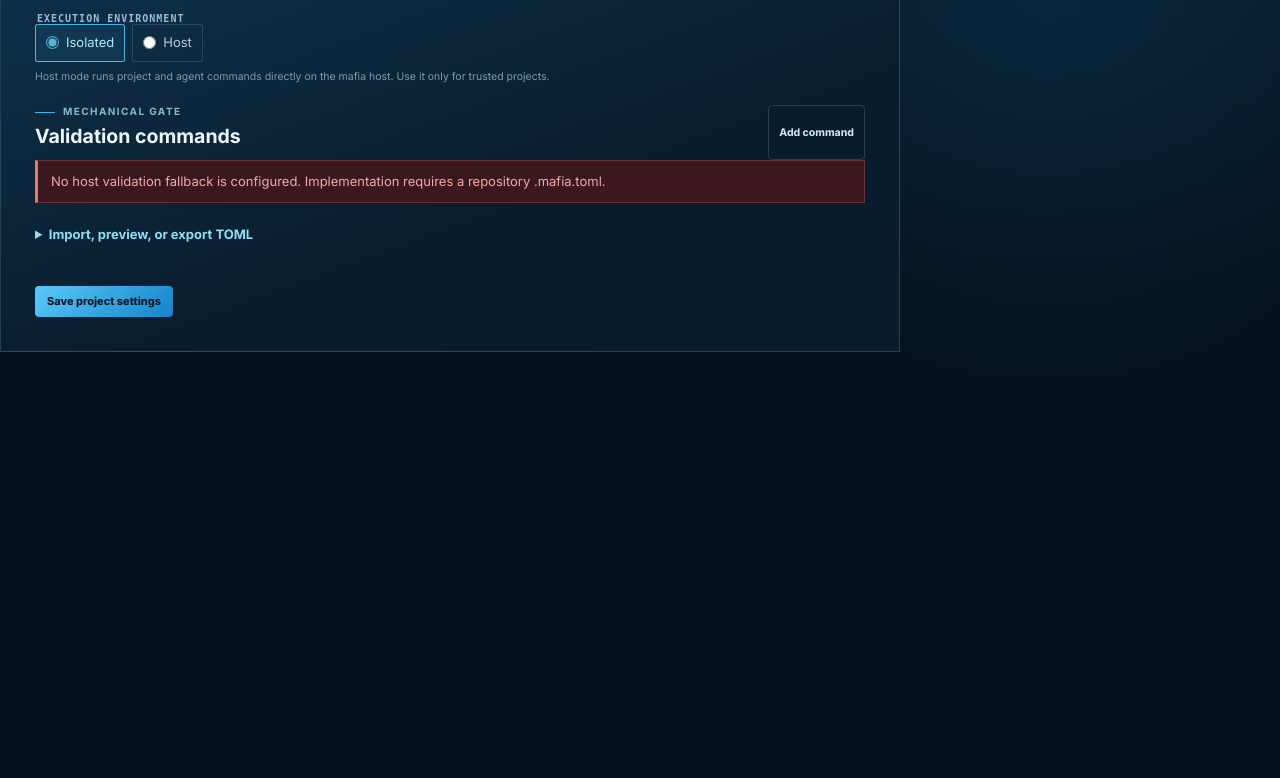
Test case: ProjectSettingsForm › validates every command timeout before submission
This screenshot has width=1280, height=778.
Click the button "Add command". click: (817, 132)
box: [768,105,865,160]
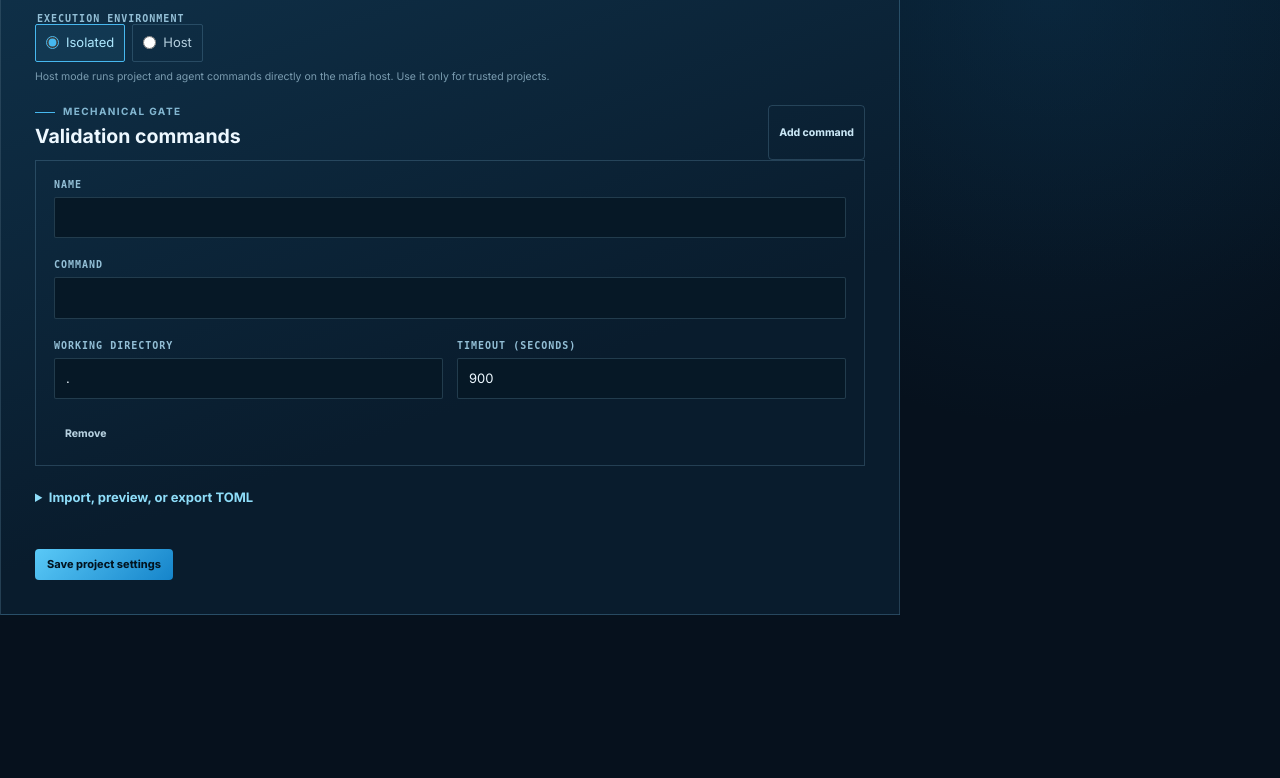
Click the button "Add command". click: (817, 132)
box: [768,105,865,160]
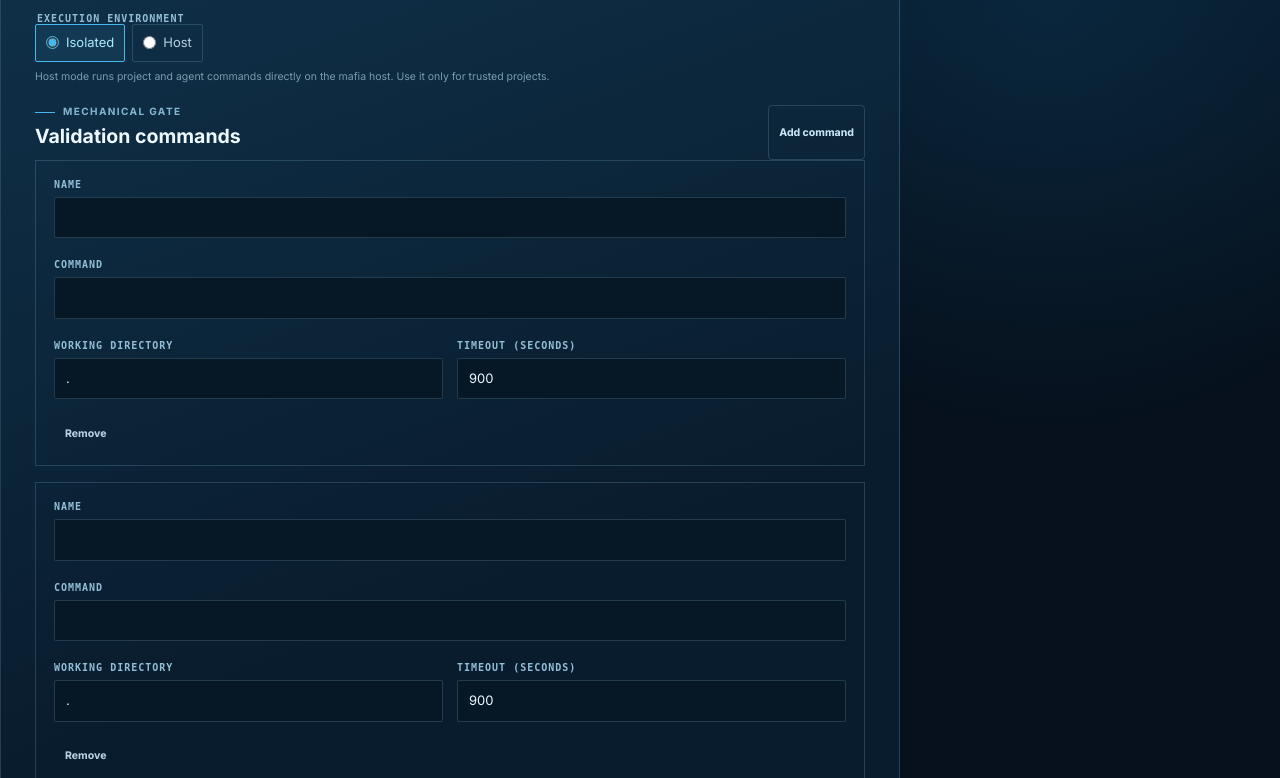
Replace the text in the 2nd number field labelled "Timeout (seconds)" with "3601". click: (652, 701)
box: [457,680,846,722]
(page scrolled)
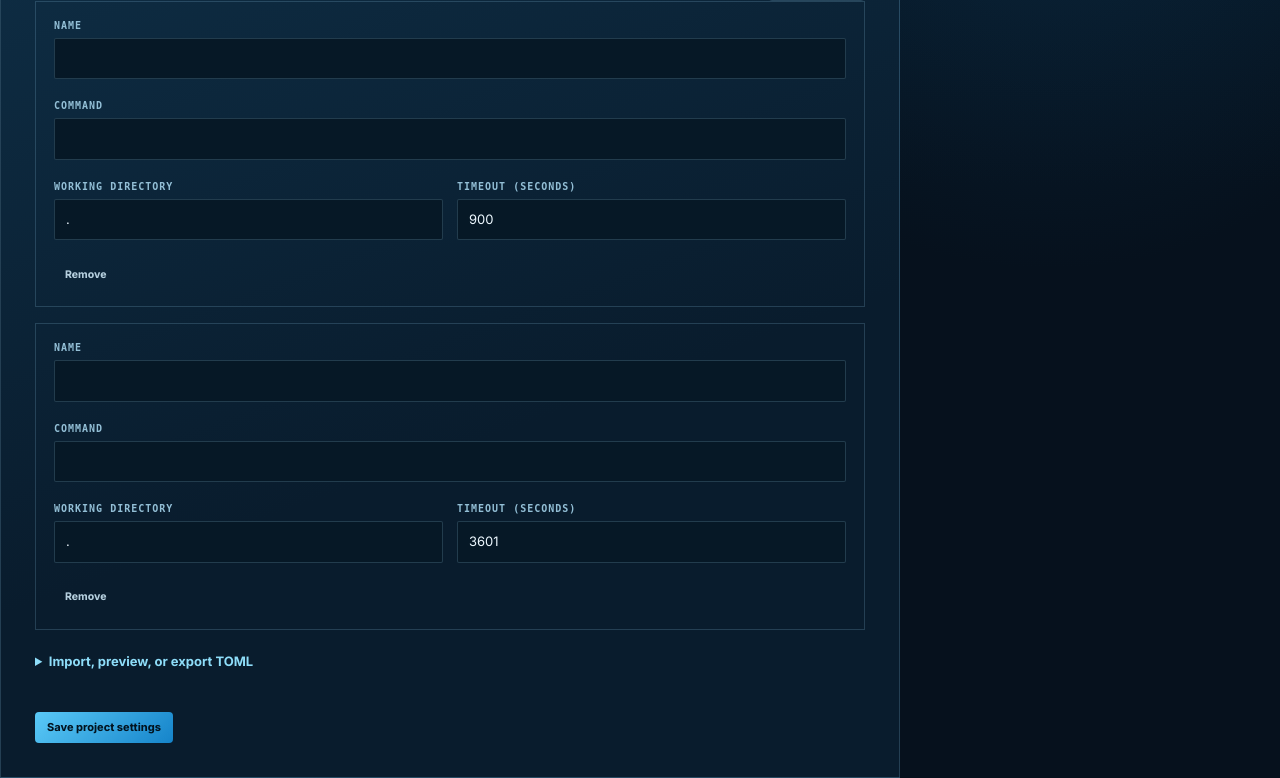
Click the button "Save project settings". click: (104, 728)
box: [35,712,173,743]
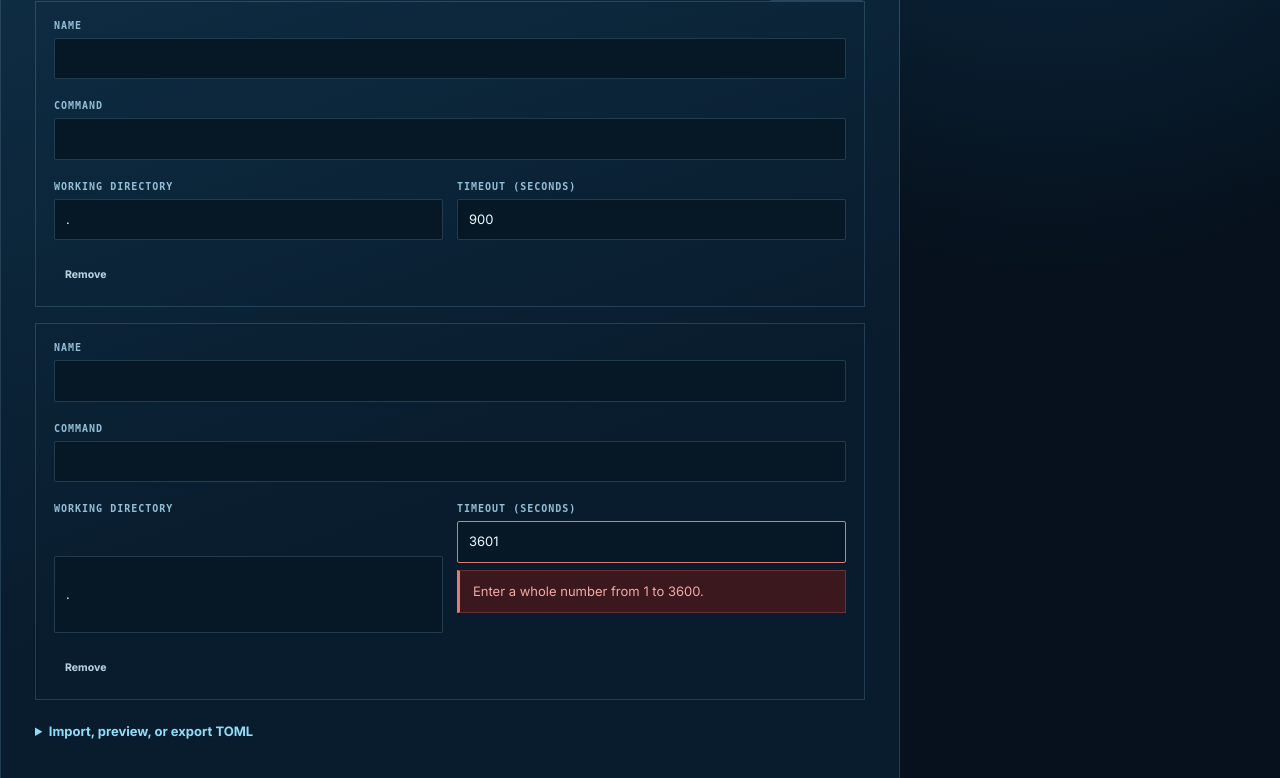
Expected: the number of messages is 1, [457,570,846,613]
